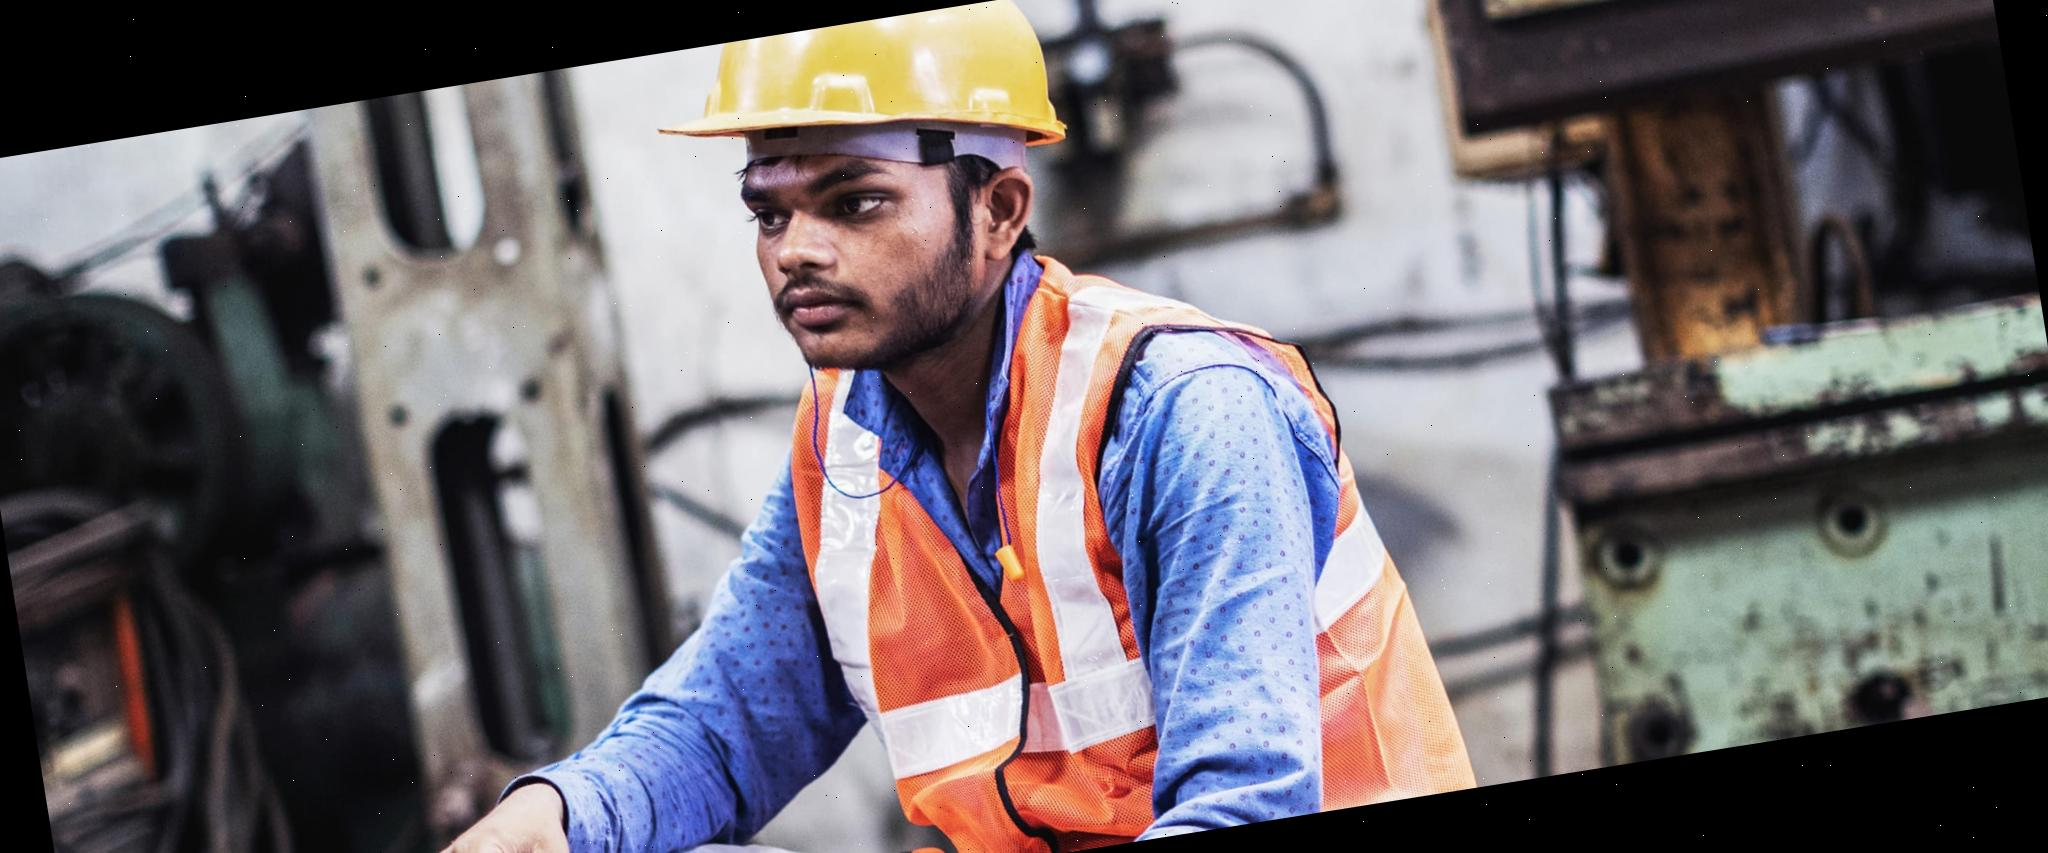helmet: (652, 0, 1074, 201)
wear: (768, 283, 1476, 853)
